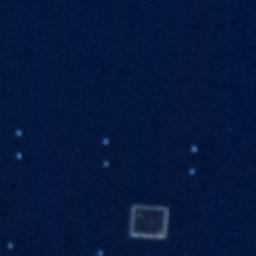square_cover: (125, 200, 172, 243)
